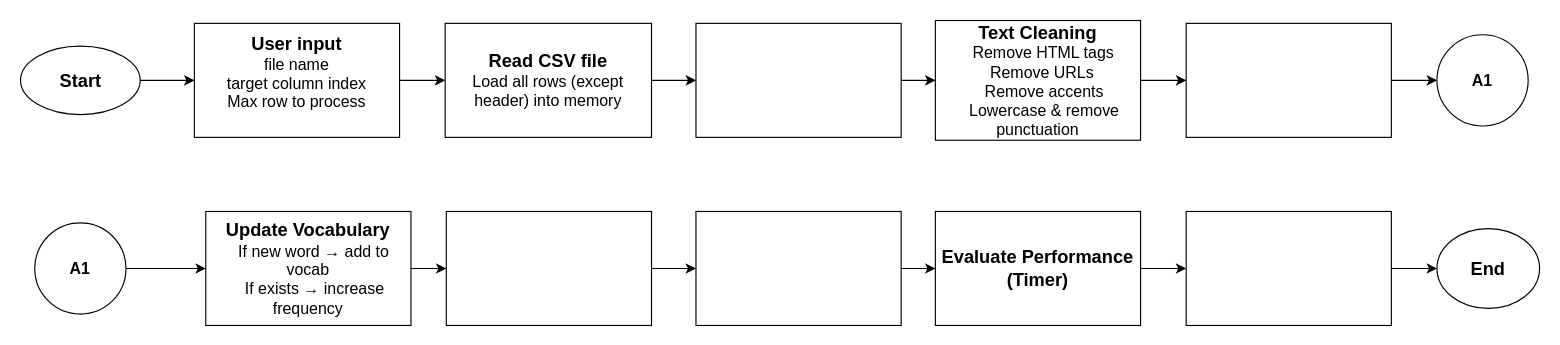
This 1560x345 diagram has some shape labels left out. The centre of each missing label's shape, as x and y in pixels:
"Create Dense BoW Matrix" belongs at (798,267).
"Generate Sparse BoW Vector" belongs at (548,267).
"Lemmatization & Stopword Removal" belongs at (1288,79).
"Parallel Processing Using OpenMP" belongs at (798,79).
"Save Output Files Vocabulary CSV BoW Vectors CSV" belongs at (1288,267).
